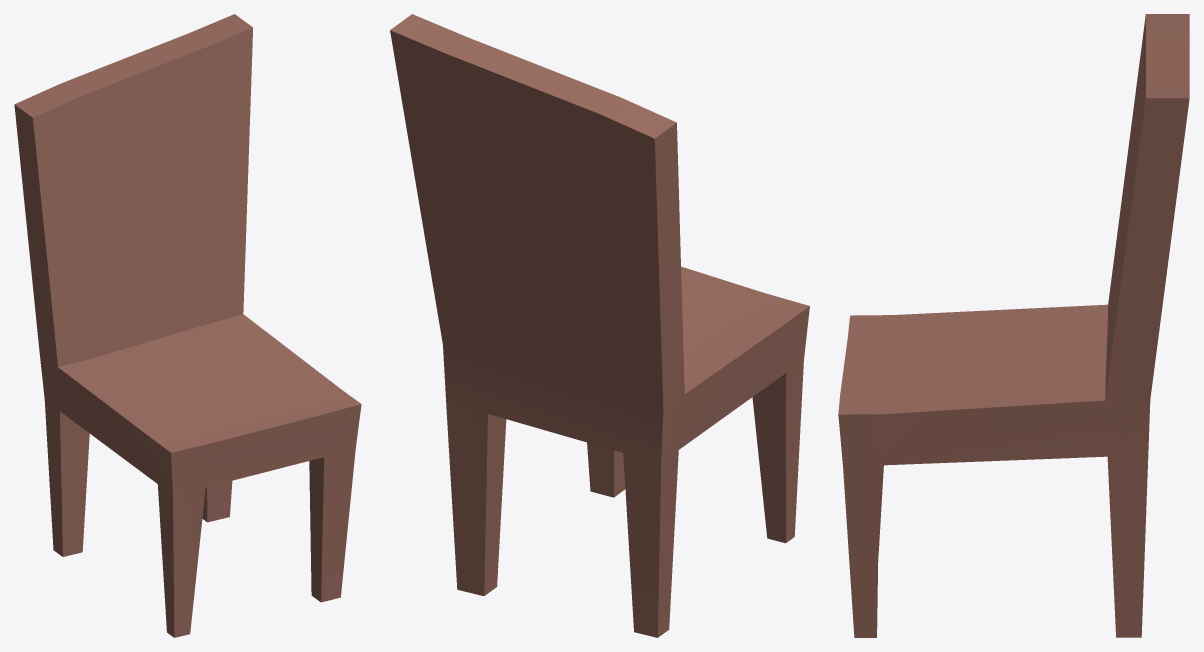
Rendered from chair.fbx.
The picture shows the model from 3 angles, left to right: view 1: azimuth 30°, elevation 25°; view 2: azimuth 150°, elevation 25°; view 3: azimuth 270°, elevation 25°; orthographic projection. The views are drawn at different scales.
Parts seen in each view (by area): view 1: chair_table; view 2: chair_table; view 3: chair_table.
Part boxes in pixels (bbox=[...]): chair_table: bbox=[14, 14, 361, 637]; chair_table: bbox=[390, 14, 809, 637]; chair_table: bbox=[838, 14, 1189, 637].
Bounding box in the file's own units: 0.54 × 1.11 × 0.628.
